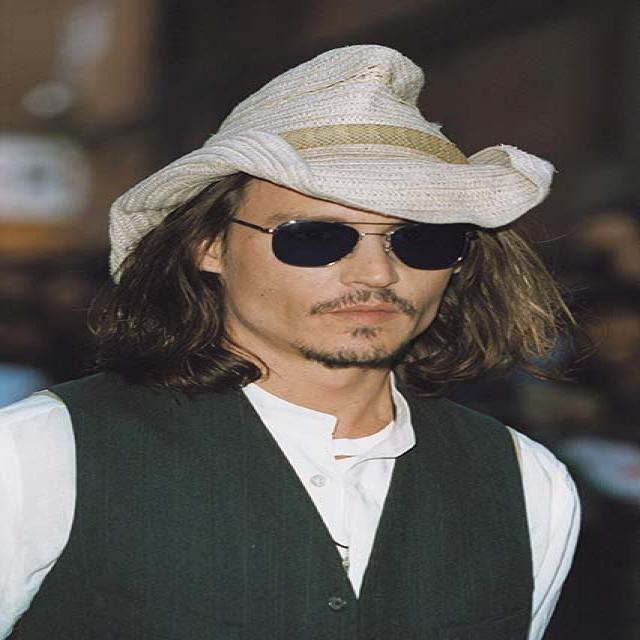hat: (95, 28, 571, 267)
